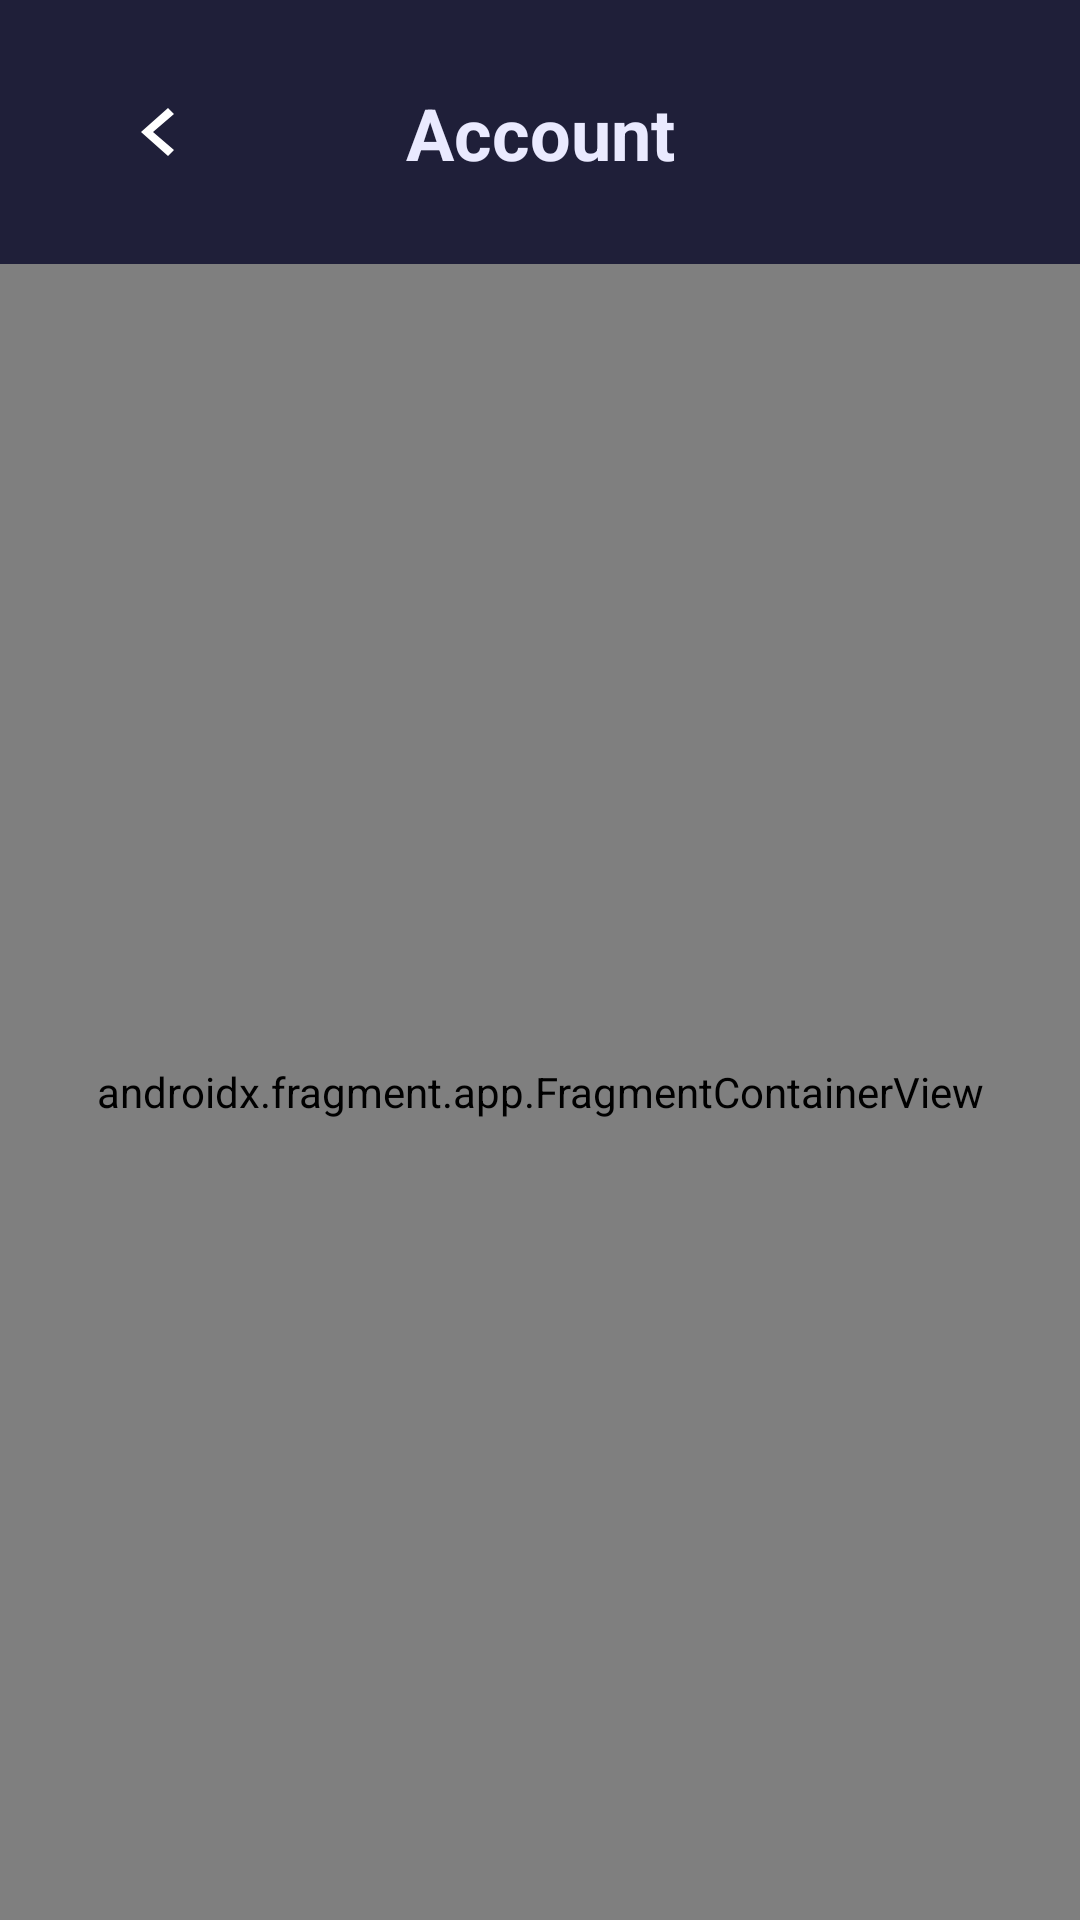

Screen size 1080px×1920px. Icon name, then its center in pixels as point (x, y):
back: point (157, 132)
